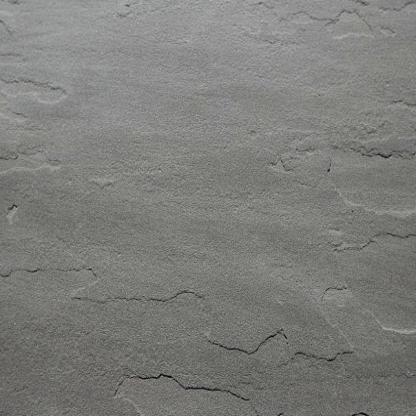Sedimentary_Sandstone: (1, 3, 414, 415)
